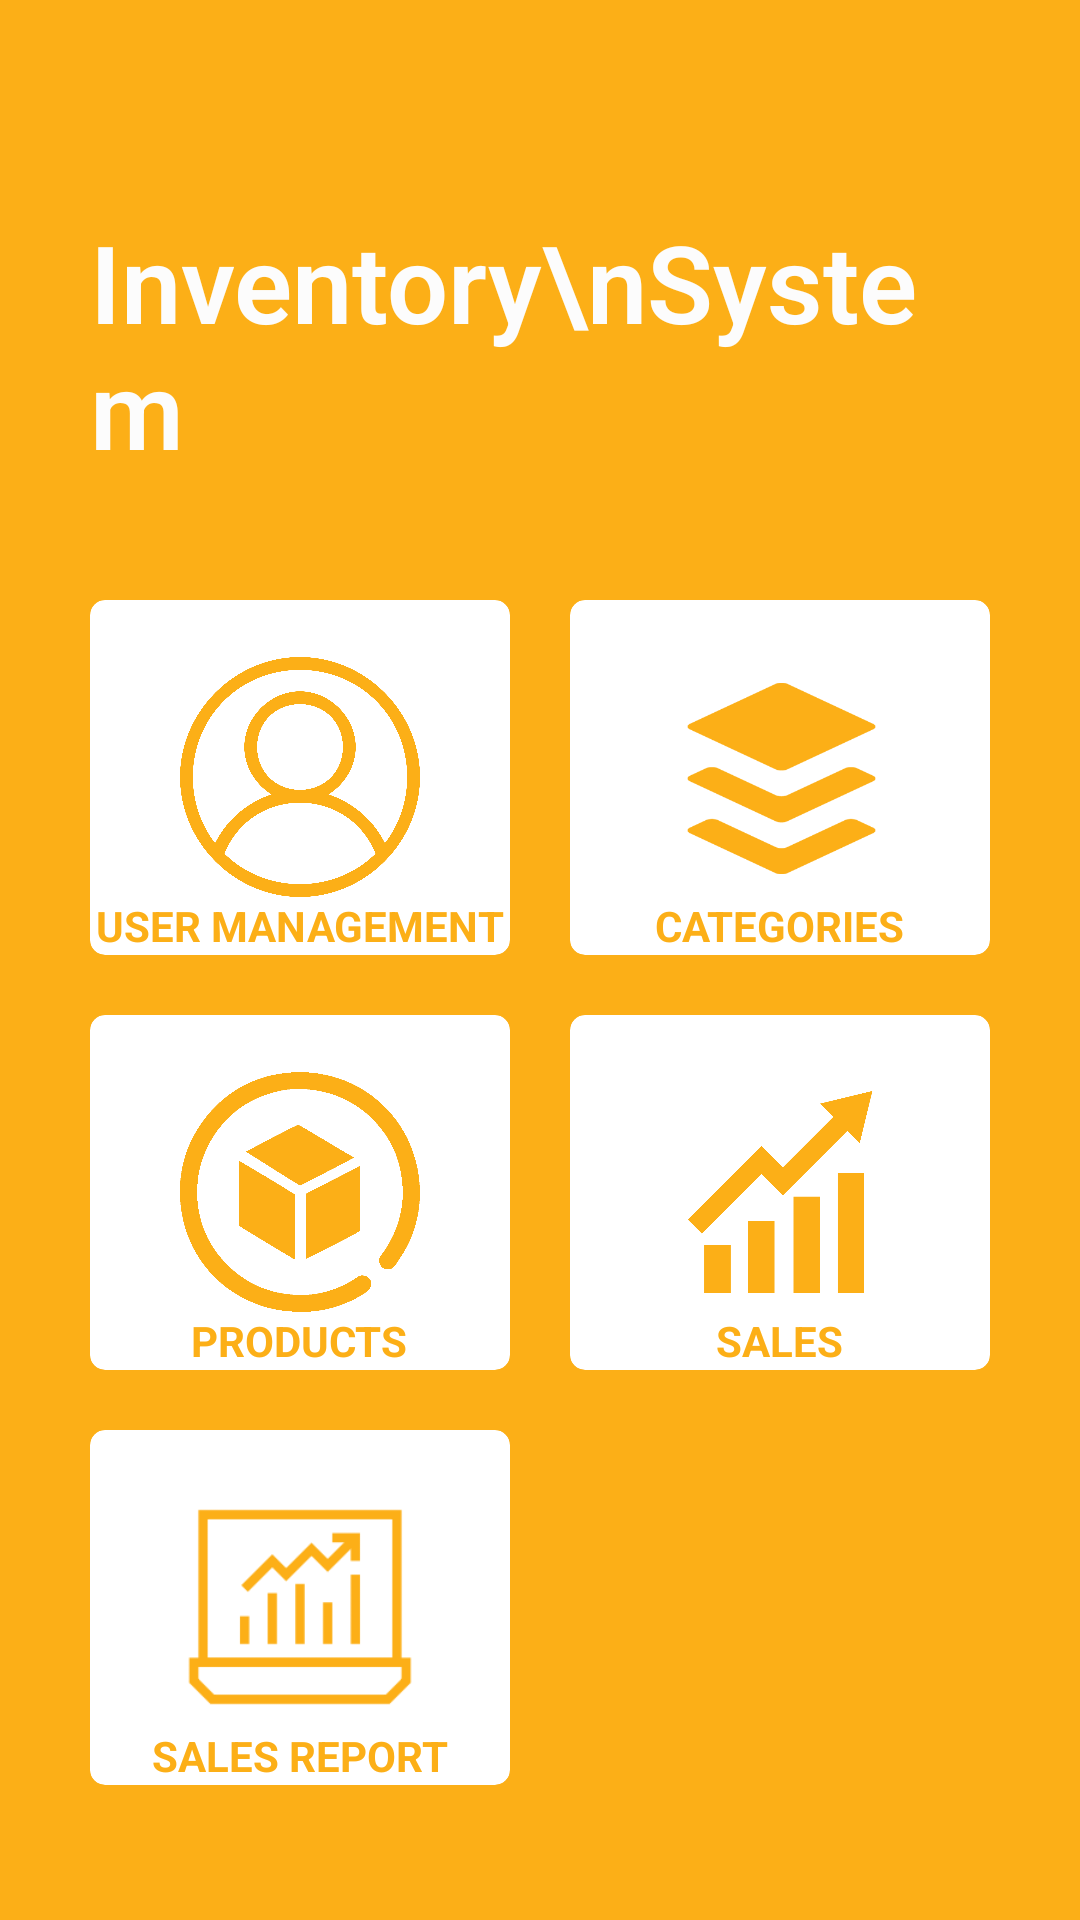

Screen size 1080×1920. Icon name, then its center in pixels as (x,y):
usericon: (300,777)
